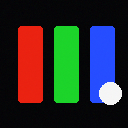2 circle: (99, 82, 121, 104)
